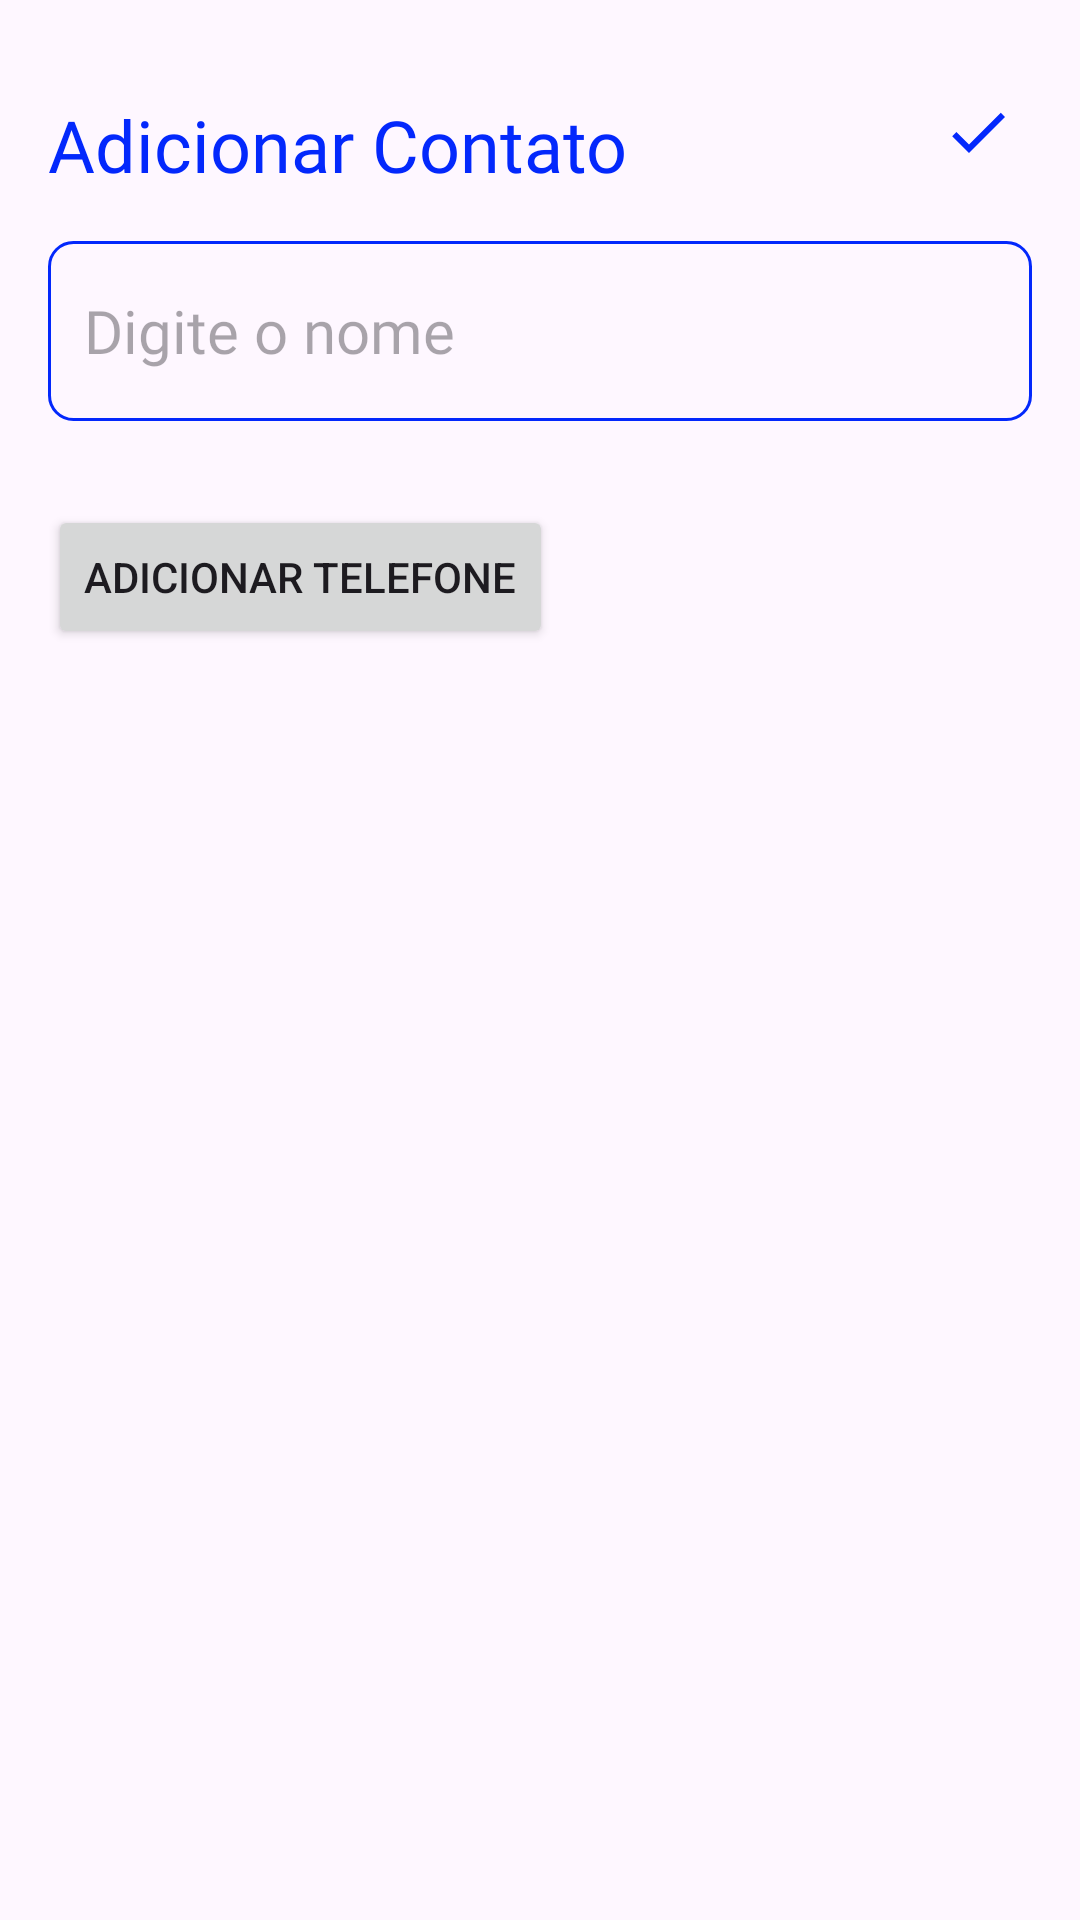

Named icons in this screenshot (1080 x 1920) and their centers, point (x, y):
done: point (978, 133)
